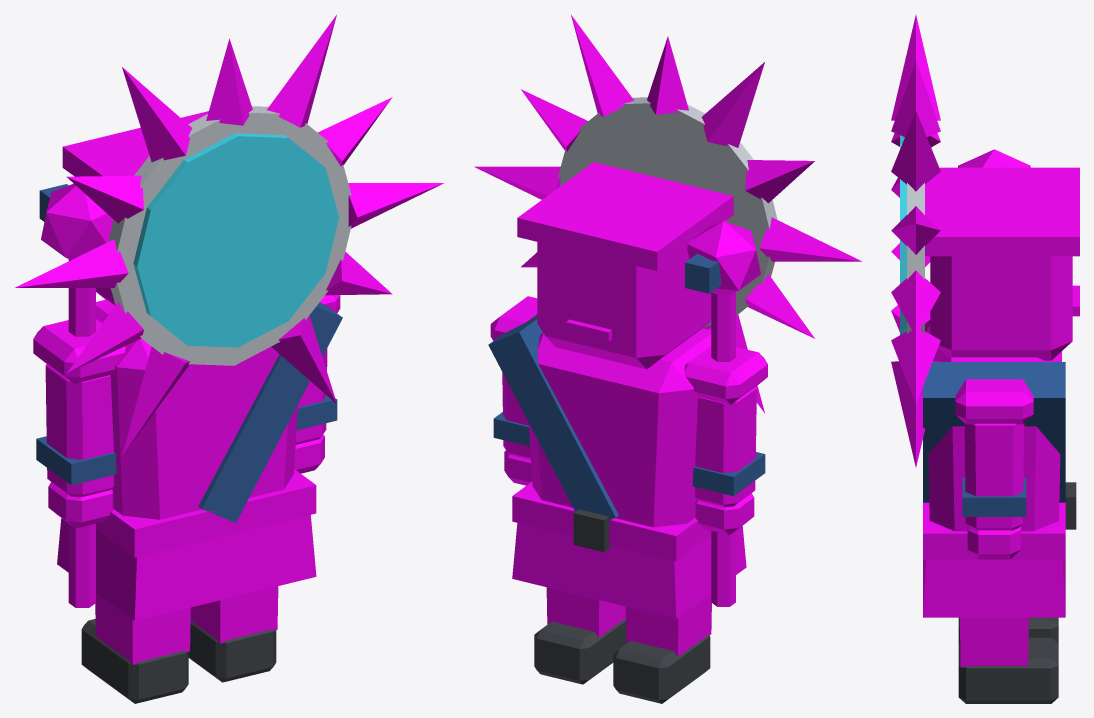
Rendered from CH_GoldenIdol_SilverIdol.fbx.
3 views of the same model, side by side, from view 1: azimuth 30°, elevation 25°; view 2: azimuth 150°, elevation 25°; view 3: azimuth 270°, elevation 25° (orthographic). The views are drawn at different scales.
Parts seen in each view (by area): view 1: DiscBack, Body, Skirt, Disc, Sash, Belt, ArmL, BootL, LegL, Orb, Rod, BootR (+19 smaller); view 2: Body, Head, Laurel, Disc, Skirt, Sash, ArmL, Belt, BootL, BootR, Rod, Orb (+20 smaller); view 3: Head, Laurel, Skirt, Sash, Body, ArmR, BootR, Belt, LegR, PauldronR, Ray4, Ray1 (+12 smaller).
Part boxes in pixels (x1,y1,x2,y2): DiscBack: (133, 133, 338, 347); Body: (96, 299, 297, 519); Skirt: (57, 515, 316, 620); Disc: (108, 106, 351, 365); Sash: (198, 302, 342, 522); Belt: (96, 469, 316, 557); ArmL: (45, 364, 114, 497); BootL: (81, 619, 188, 703); LegL: (95, 593, 190, 664); Orb: (41, 183, 113, 259); Rod: (68, 259, 95, 607); BootR: (188, 620, 276, 682); Body: (529, 328, 711, 527); Head: (537, 200, 711, 369); Laurel: (517, 162, 733, 270); Disc: (558, 97, 777, 328); Skirt: (512, 523, 746, 618); Sash: (488, 314, 618, 519); ArmL: (695, 386, 756, 507); Belt: (512, 482, 711, 561); BootL: (613, 634, 710, 703); BootR: (534, 618, 626, 684); Rod: (711, 292, 735, 606); Orb: (687, 221, 760, 294); Head: (930, 198, 1072, 360); Laurel: (925, 167, 1079, 256); Skirt: (923, 559, 1065, 617); Sash: (923, 362, 1065, 502); Body: (927, 325, 1061, 531); ArmR: (964, 423, 1024, 530); BootR: (958, 637, 1058, 703); Belt: (923, 502, 1065, 559); LegR: (960, 617, 1028, 667); PauldronR: (955, 379, 1033, 424); Ray4: (891, 111, 940, 191); Ray1: (891, 330, 940, 403).
Bounding box in the file's own units: 1.28 × 0.53 × 1.9.
